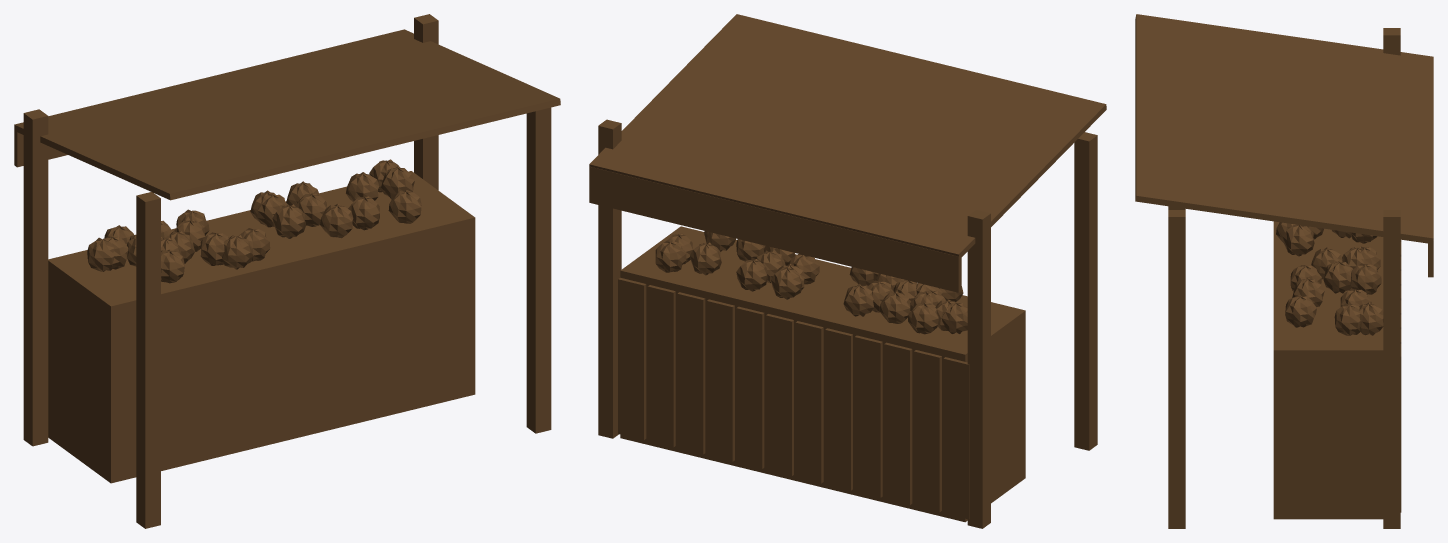
The model's file is FishMarket.obj.
3 renders of one model, left to right at view 1: azimuth 30°, elevation 25°; view 2: azimuth 150°, elevation 25°; view 3: azimuth 270°, elevation 25°, orthographic. The views are drawn at different scales.
Parts seen in each view (by area): view 1: wood, canvas, bluecloth, fruit; view 2: trim, wood, canvas, bluecloth, fruit; view 3: wood, bluecloth, canvas, fruit, trim.
Part boxes in pixels (bbox=[...]): wood: bbox=[23, 14, 551, 528]; canvas: bbox=[14, 39, 521, 200]; bluecloth: bbox=[53, 29, 560, 190]; fruit: bbox=[87, 159, 421, 283]; trim: bbox=[618, 277, 969, 519]; wood: bbox=[598, 119, 1097, 528]; canvas: bbox=[626, 23, 1106, 292]; bluecloth: bbox=[589, 14, 1068, 283]; fruit: bbox=[655, 231, 967, 334]; wood: bbox=[1168, 28, 1400, 528]; bluecloth: bbox=[1135, 32, 1433, 277]; canvas: bbox=[1135, 14, 1433, 220]; fruit: bbox=[1276, 222, 1383, 335]; trim: bbox=[1400, 240, 1401, 512].
Bounding box in the file's own units: 3.12 × 2.54 × 2.08.
